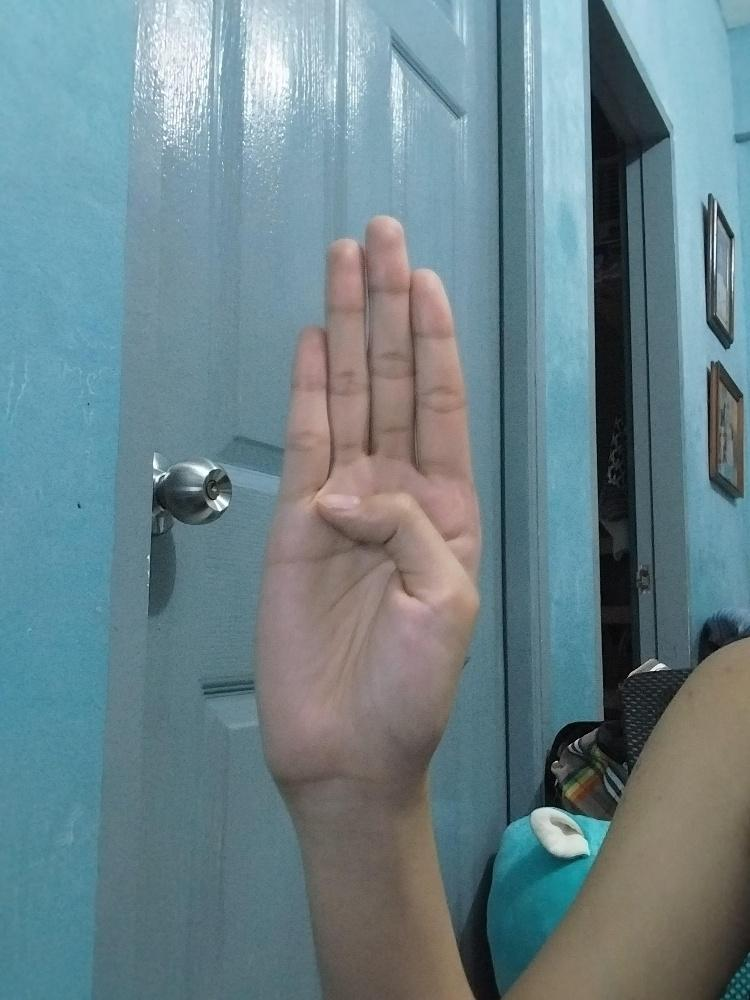b: (251, 209, 479, 778)
